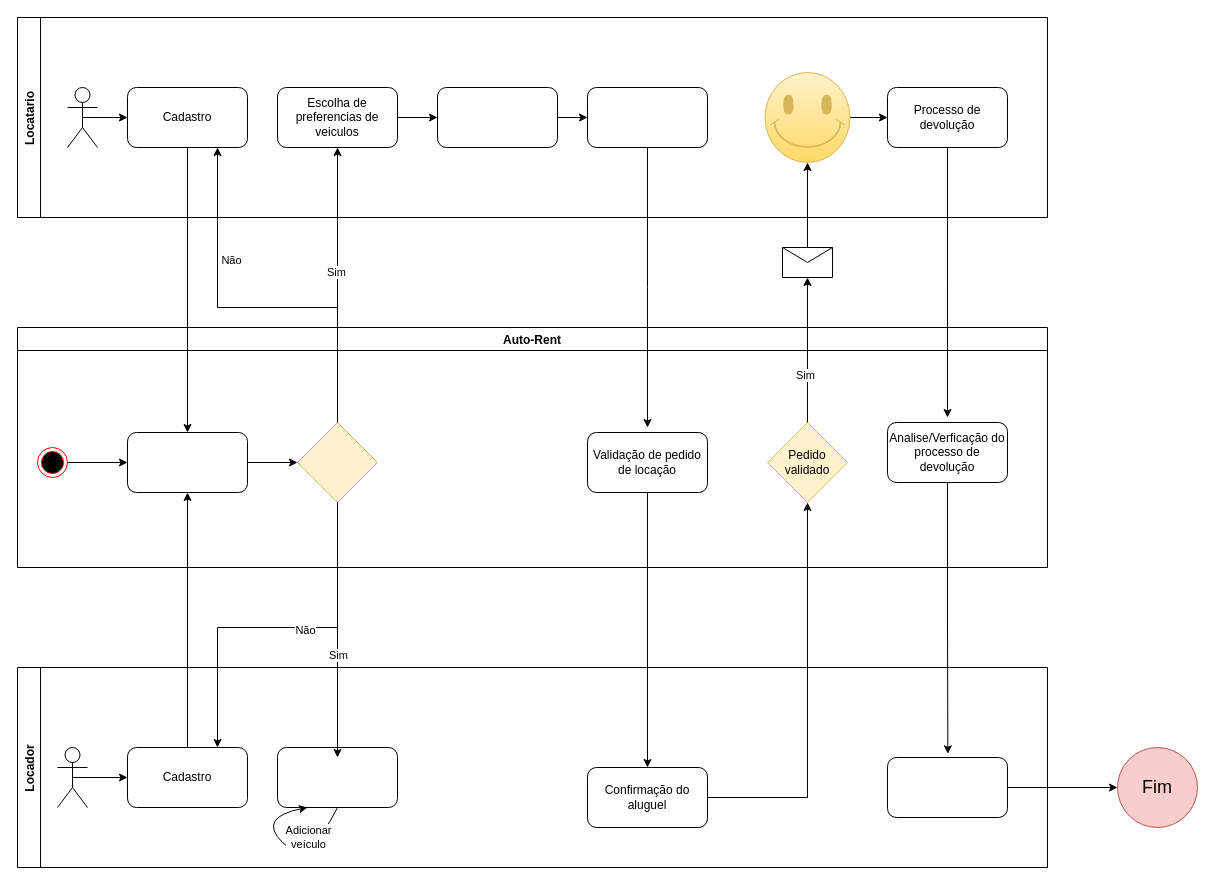
This 1215x885 diagram has some shape labels left out. The centre of each missing label's shape, as x and y in pixels:
"Checar dados cadastrais" belongs at (x=187, y=462).
"Dados validos" belongs at (x=337, y=462).
"Devolução do veículo alugado" belongs at (x=947, y=787).
"Elaboração do catalogo" belongs at (x=337, y=777).
"Exibição de catalogo personalizado" belongs at (x=497, y=117).
"Processo de locação" belongs at (x=647, y=117).
